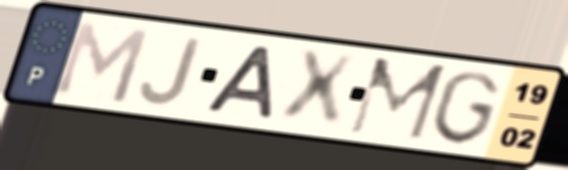A: (199, 43, 276, 122)
G: (427, 68, 505, 148)
J: (136, 35, 206, 108)
M: (343, 55, 451, 144), (50, 17, 154, 107)
X: (275, 47, 361, 131)
